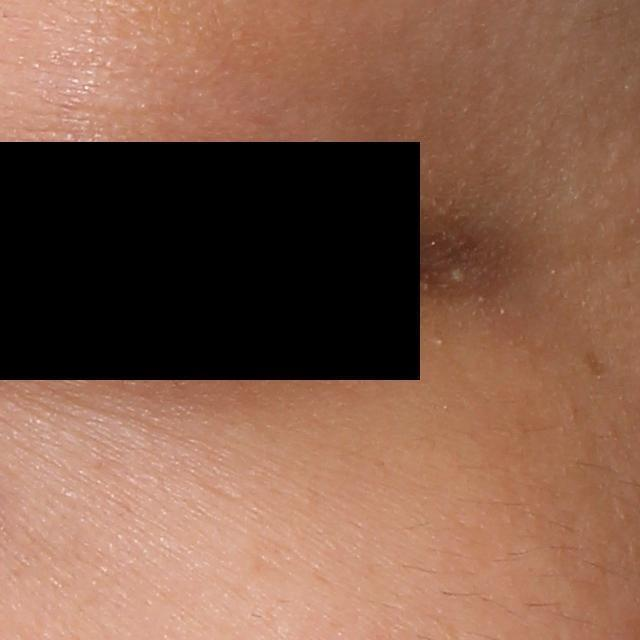melasma: (581, 348, 612, 378)
